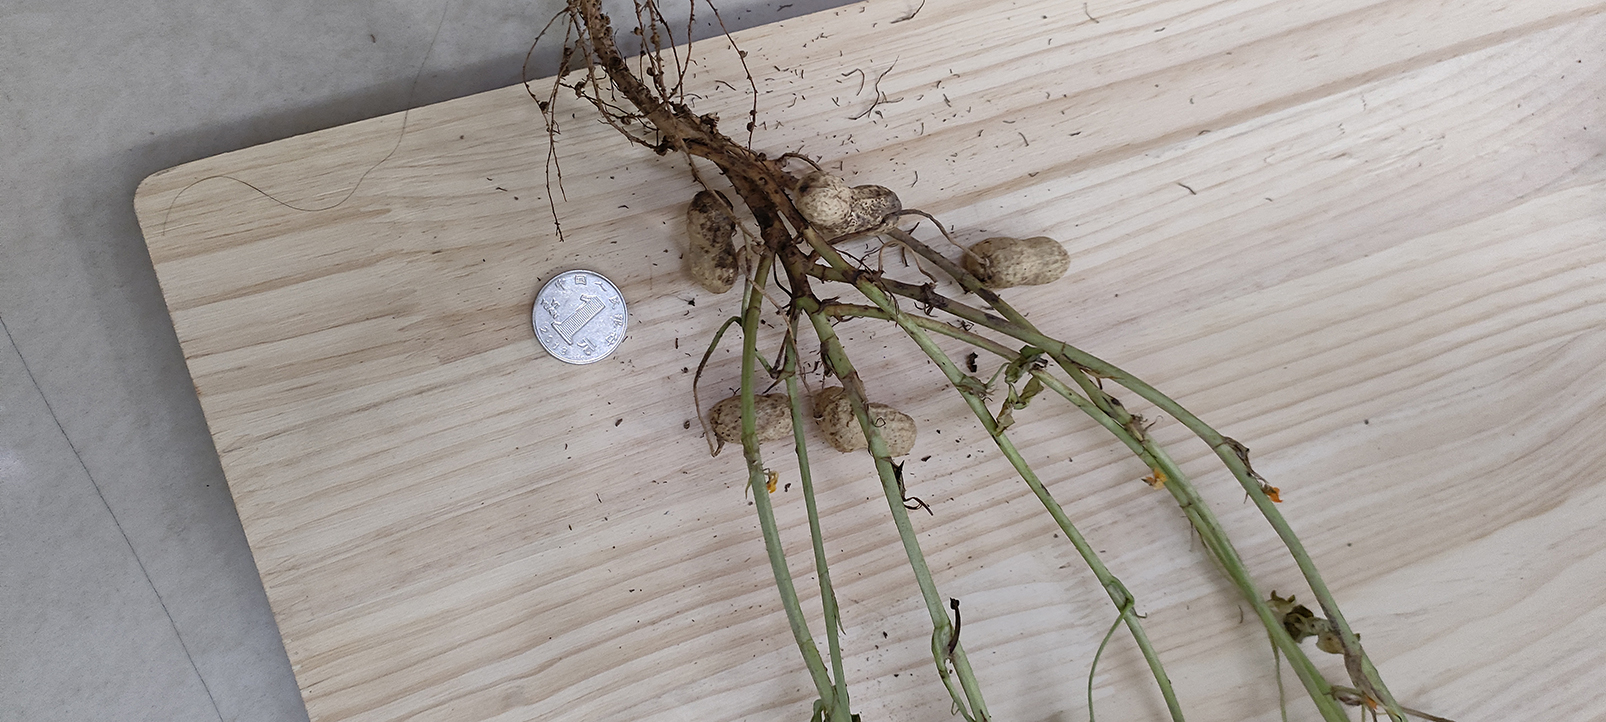h: (816, 384, 917, 457), (793, 172, 902, 230), (964, 233, 1073, 287)
l: (688, 192, 739, 290), (711, 394, 794, 441)
